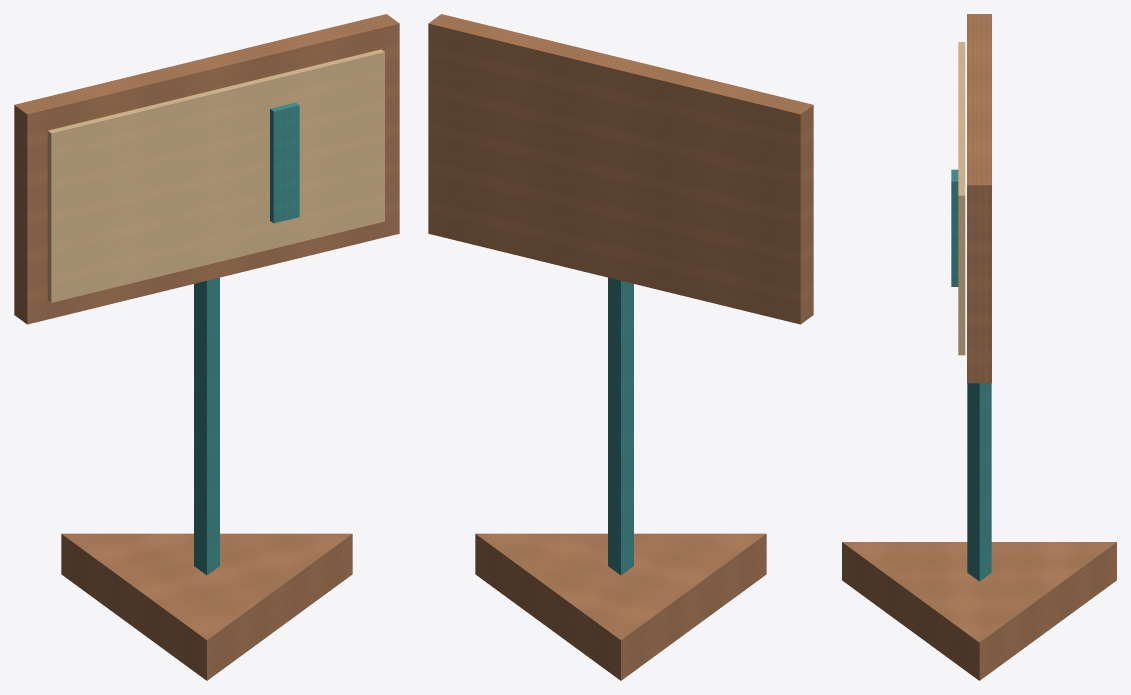
The model's file is atlas100-s093-a11.lod2.glb.
The picture shows the model from 3 angles, left to right: view 1: azimuth 30°, elevation 25°; view 2: azimuth 150°, elevation 25°; view 3: azimuth 270°, elevation 25°; orthographic projection. The views are drawn at different scales.
Parts seen in each view (by area): view 1: atlas100-s093-a11:part-003, atlas100-s093-a11:part-002, atlas100-s093-a11:part-000, atlas100-s093-a11:part-001, atlas100-s093-a11:part-006; view 2: atlas100-s093-a11:part-002, atlas100-s093-a11:part-000, atlas100-s093-a11:part-001; view 3: atlas100-s093-a11:part-000, atlas100-s093-a11:part-002, atlas100-s093-a11:part-001, atlas100-s093-a11:part-003, atlas100-s093-a11:part-006.
Part boxes in pixels (bbox=[...]): atlas100-s093-a11:part-003: bbox=[47, 49, 384, 302]; atlas100-s093-a11:part-002: bbox=[14, 14, 399, 324]; atlas100-s093-a11:part-000: bbox=[61, 533, 352, 680]; atlas100-s093-a11:part-001: bbox=[194, 277, 219, 575]; atlas100-s093-a11:part-006: bbox=[270, 102, 299, 223]; atlas100-s093-a11:part-002: bbox=[428, 14, 813, 324]; atlas100-s093-a11:part-000: bbox=[475, 533, 766, 680]; atlas100-s093-a11:part-001: bbox=[608, 277, 633, 575]; atlas100-s093-a11:part-000: bbox=[842, 542, 1116, 680]; atlas100-s093-a11:part-002: bbox=[967, 14, 991, 383]; atlas100-s093-a11:part-001: bbox=[967, 383, 991, 581]; atlas100-s093-a11:part-003: bbox=[958, 42, 965, 355]; atlas100-s093-a11:part-006: bbox=[951, 169, 958, 286].
Size of the model in its own units: 1.15 by 1.61 by 0.7794.
3 materials, 3 textured.
